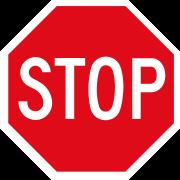Stop: (8, 19, 177, 160)
